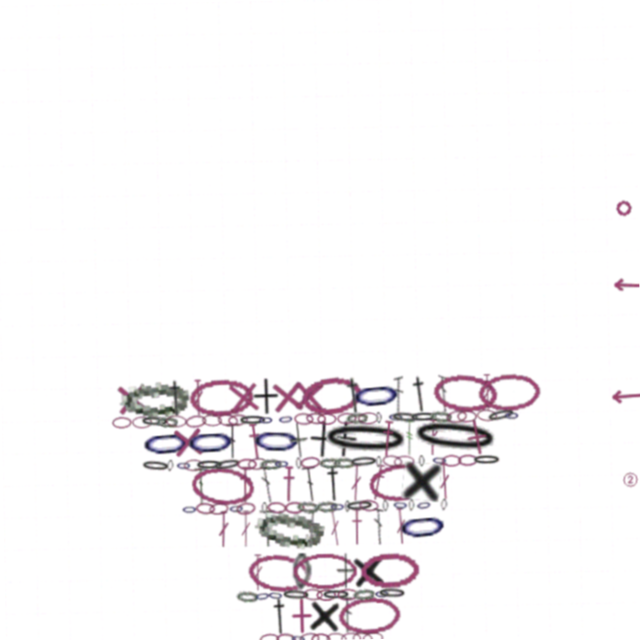chain: (405, 416, 501, 463), (316, 419, 411, 461), (249, 505, 322, 551), (241, 550, 309, 594), (186, 462, 254, 506), (430, 374, 497, 417), (364, 462, 430, 505), (118, 376, 188, 416), (298, 374, 363, 417), (187, 376, 252, 415), (332, 596, 395, 636), (476, 376, 539, 415), (288, 553, 352, 590), (355, 553, 416, 591), (392, 508, 446, 548), (137, 420, 191, 460), (348, 376, 402, 416), (182, 420, 235, 459), (248, 420, 301, 459), (287, 553, 307, 590), (484, 410, 515, 427), (209, 455, 240, 471), (388, 412, 419, 426), (138, 456, 168, 470), (276, 588, 306, 601), (372, 588, 402, 601), (341, 500, 371, 513), (346, 456, 376, 469), (138, 412, 168, 425), (316, 589, 346, 601), (192, 457, 222, 469), (469, 457, 499, 469), (236, 413, 266, 425), (407, 413, 437, 425), (215, 411, 237, 426), (347, 588, 370, 602), (379, 455, 400, 470), (183, 412, 205, 426), (444, 412, 466, 426), (205, 500, 226, 514), (232, 500, 253, 514), (263, 500, 284, 514), (293, 500, 315, 513), (312, 500, 334, 513), (344, 412, 366, 425), (428, 412, 450, 425), (355, 500, 376, 513), (297, 456, 318, 469), (164, 412, 185, 425), (231, 589, 253, 601), (257, 457, 279, 469), (316, 457, 338, 469), (330, 457, 352, 469), (154, 413, 176, 425), (298, 588, 318, 601), (192, 500, 212, 513), (245, 456, 265, 469), (200, 412, 220, 425), (226, 412, 246, 425), (292, 412, 312, 425), (304, 412, 324, 425), (475, 412, 495, 425), (332, 589, 353, 601), (391, 457, 412, 469), (356, 413, 377, 425), (311, 589, 331, 601), (281, 501, 301, 513), (181, 457, 201, 469), (234, 457, 254, 469), (439, 457, 459, 469), (455, 457, 475, 469), (110, 413, 130, 425), (130, 413, 150, 425), (315, 413, 335, 425), (335, 413, 355, 425), (455, 413, 475, 425), (249, 588, 266, 602), (412, 500, 429, 514), (262, 588, 279, 601), (389, 500, 405, 513), (429, 456, 445, 469), (276, 412, 292, 425), (386, 412, 402, 425), (369, 589, 385, 601), (178, 501, 194, 513), (225, 501, 241, 513), (326, 501, 342, 513), (173, 457, 189, 469), (271, 457, 287, 469), (256, 413, 272, 425), (502, 413, 518, 425), (356, 632, 378, 640), (253, 632, 274, 640), (293, 632, 314, 640), (320, 632, 341, 640), (346, 632, 367, 640), (270, 632, 290, 640), (305, 633, 325, 640), (335, 633, 355, 640), (284, 632, 301, 640), (437, 501, 444, 513), (164, 457, 171, 469), (258, 501, 264, 513), (341, 501, 347, 513), (379, 501, 385, 513), (405, 501, 411, 513), (293, 457, 299, 469), (373, 457, 379, 469), (416, 457, 422, 469), (374, 413, 380, 425)
double: (298, 465, 317, 503), (323, 509, 339, 547), (256, 509, 272, 546), (223, 421, 238, 458), (390, 509, 404, 546), (190, 465, 204, 502), (346, 465, 360, 502), (213, 509, 226, 546), (257, 465, 270, 502), (435, 465, 448, 502), (424, 421, 437, 458), (336, 597, 348, 634), (247, 553, 259, 590), (236, 509, 248, 546), (302, 509, 314, 546), (191, 377, 203, 414), (480, 377, 492, 414), (369, 509, 380, 546), (392, 377, 402, 414), (437, 377, 447, 414)
half_double: (341, 377, 364, 415), (407, 377, 430, 415), (365, 464, 385, 503), (264, 597, 285, 634), (320, 465, 341, 502), (164, 377, 185, 414), (244, 421, 262, 459), (377, 421, 394, 459), (278, 465, 293, 502), (346, 509, 360, 546), (235, 465, 249, 502)
noise: (608, 395, 640, 409), (612, 284, 640, 297), (616, 204, 635, 223), (618, 476, 636, 494)
single: (454, 419, 496, 461), (398, 463, 439, 504), (222, 376, 262, 416), (266, 376, 306, 416), (166, 420, 205, 459), (111, 376, 150, 415), (288, 376, 327, 415), (301, 596, 338, 635), (346, 552, 382, 591), (278, 597, 315, 634), (326, 420, 357, 459), (305, 420, 335, 459), (250, 377, 278, 414), (286, 421, 308, 459), (332, 553, 351, 590)
treble: (401, 421, 414, 458)
